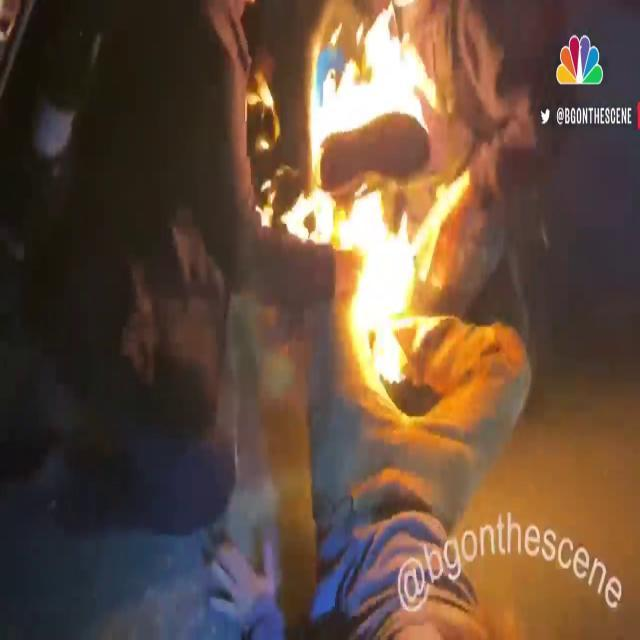Fire: (247, 2, 504, 390)
